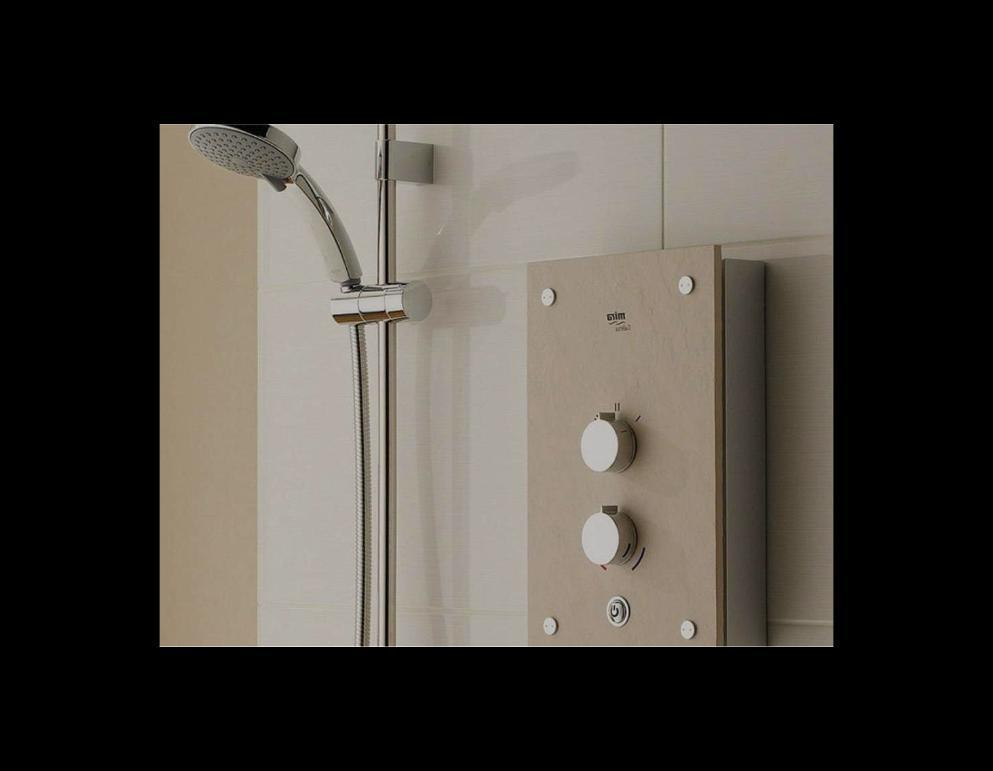Ducha: (160, 124, 833, 647)
